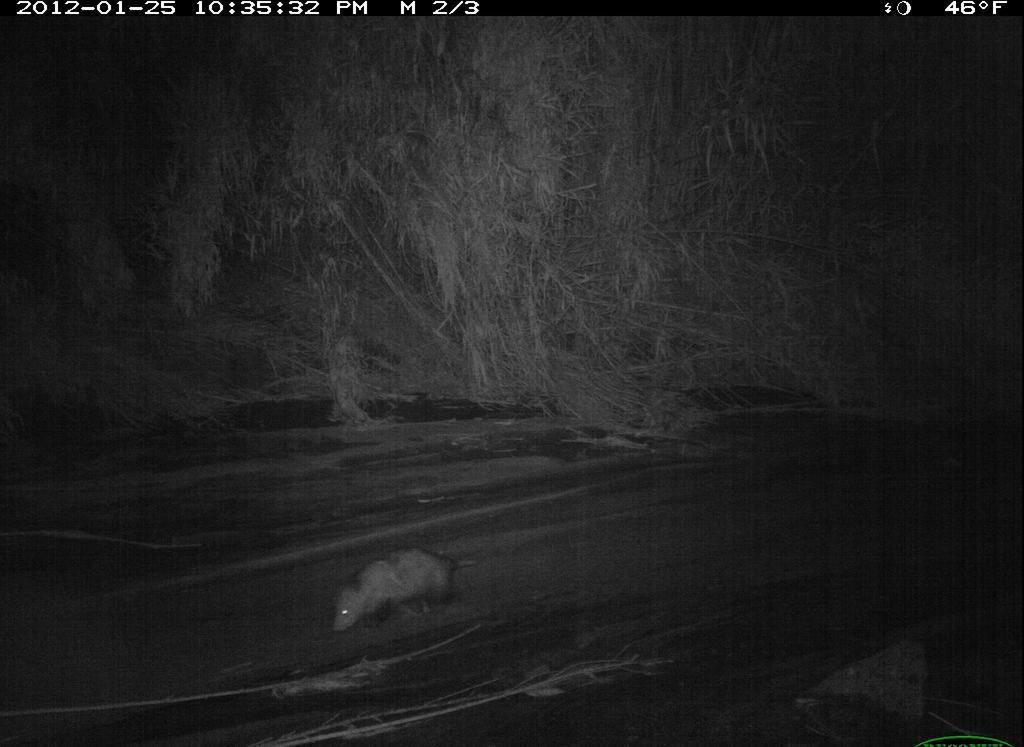opossum: (314, 532, 482, 639)
